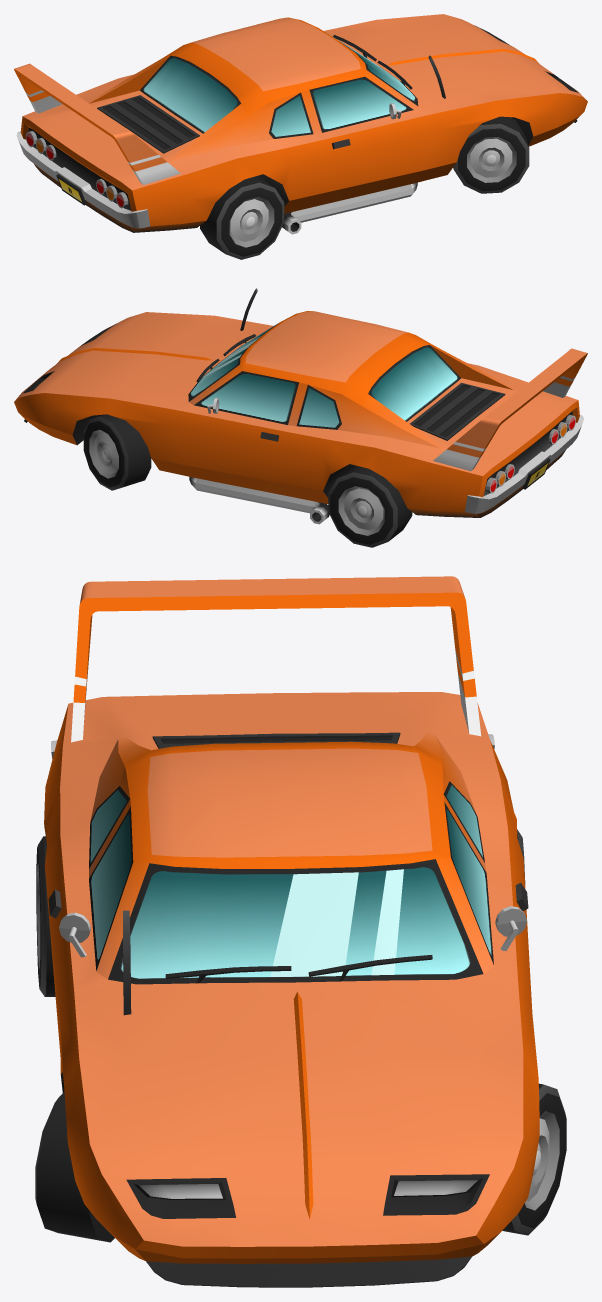
The model's file is Car_065.glb.
The picture shows the model from 3 angles, top to bottom: view 1: azimuth 30°, elevation 25°; view 2: azimuth 150°, elevation 25°; view 3: azimuth 270°, elevation 25°; orthographic projection. The views are drawn at different scales.
Visible parts, largest first — view 1: Car_065, wheel_2_Car_065_Wheel_3R, wheel_0_Car_065_Wheel_1R; view 2: Car_065, wheel_3_Car_065_Wheel_4L, wheel_1_Car_065_Wheel_2L; view 3: Car_065, wheel_0_Car_065_Wheel_1R, wheel_1_Car_065_Wheel_2L, wheel_2_Car_065_Wheel_3R.
Boxes of the visible parts, x1,y1,x2,y2 form: Car_065: (14,14,587,234); wheel_2_Car_065_Wheel_3R: (200,176,284,259); wheel_0_Car_065_Wheel_1R: (453,116,529,193); Car_065: (14,288,587,524); wheel_3_Car_065_Wheel_4L: (328,465,412,547); wheel_1_Car_065_Wheel_2L: (83,414,151,490); Car_065: (44,576,539,1287); wheel_0_Car_065_Wheel_1R: (35,1092,114,1242); wheel_1_Car_065_Wheel_2L: (502,1083,566,1235); wheel_2_Car_065_Wheel_3R: (36,836,55,996).
Size of the model in its own units: 5.05 by 1.4 by 2.37.
Materials: 1 (1 with a texture image).
